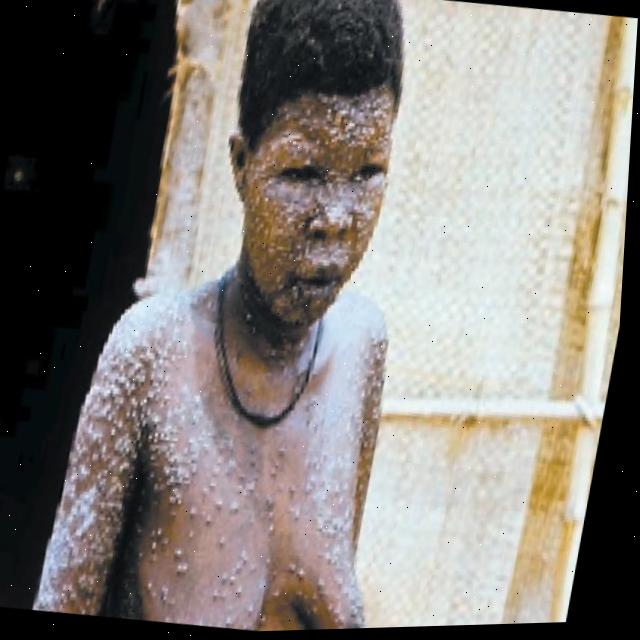Eczema: (37, 308, 394, 615), (231, 82, 401, 302)
